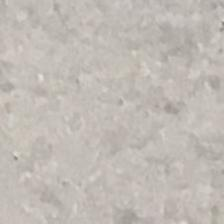Non_Crack: (17, 29, 208, 216)
